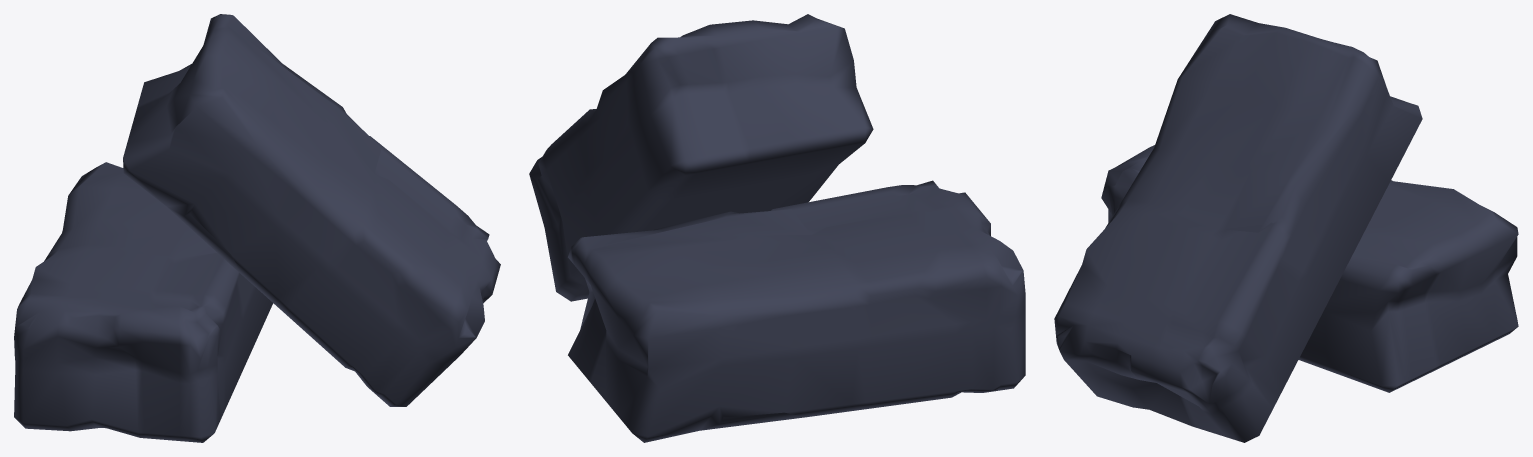
Rendered from brokenBrick_doubleStack_model.fbx.
The picture shows the model from 3 angles, left to right: view 1: azimuth 30°, elevation 25°; view 2: azimuth 150°, elevation 25°; view 3: azimuth 270°, elevation 25°; orthographic projection. The views are drawn at different scales.
Parts seen in each view (by area): view 1: brickDoubleGroup_geo; view 2: brickDoubleGroup_geo; view 3: brickDoubleGroup_geo.
Part boxes in pixels (left/top/right/bottom): brickDoubleGroup_geo: left=14, top=14, right=500, bottom=442; brickDoubleGroup_geo: left=529, top=14, right=1025, bottom=442; brickDoubleGroup_geo: left=1054, top=14, right=1518, bottom=442.
Bounding box in the file's own units: 43.14 × 36.79 × 27.98.
